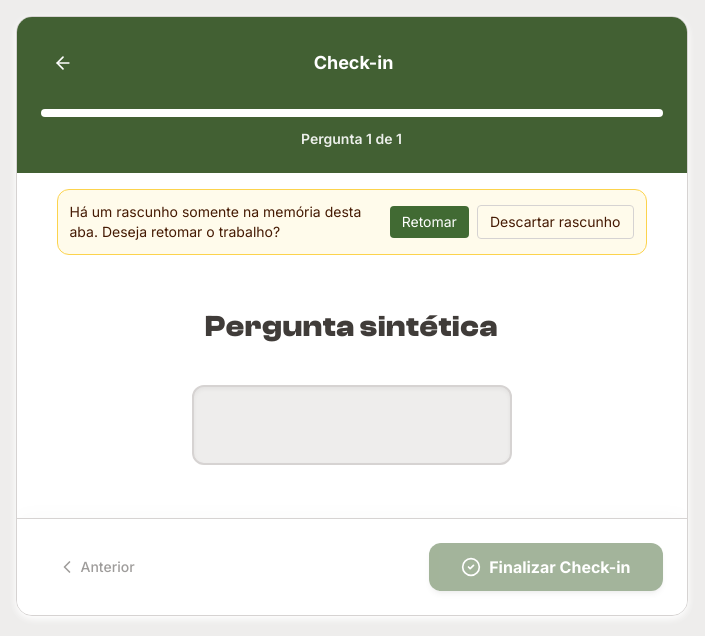
Test case: truthful check-in lifecycle and explicit answers › restores an explicit new numeric zero as a valid answer
Expected: the heading "Pergunta sintética" is shown, [205,308,498,344]
Click the button "Retomar" at x=429, y=222, box [390,206,469,238]
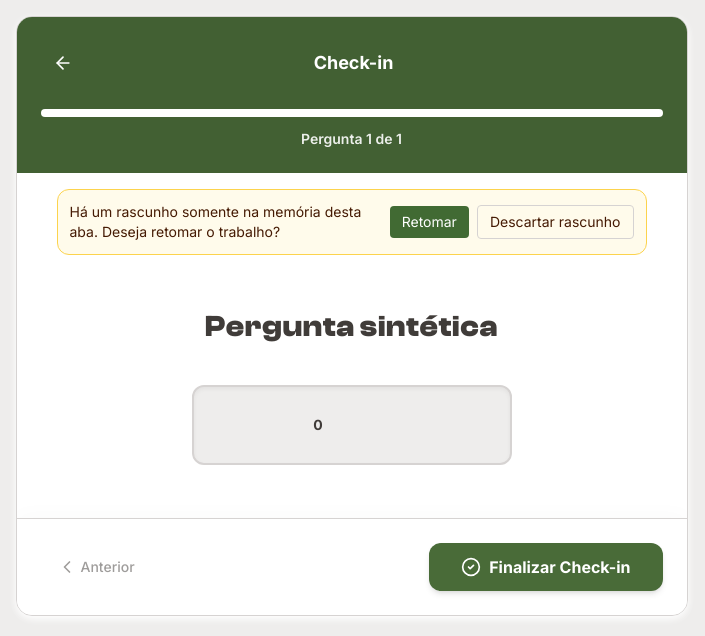
Now the number field holds "0", box [192,384,512,464]
Now the button "Finalizar Check-in" is enabled, box [429,543,662,591]
